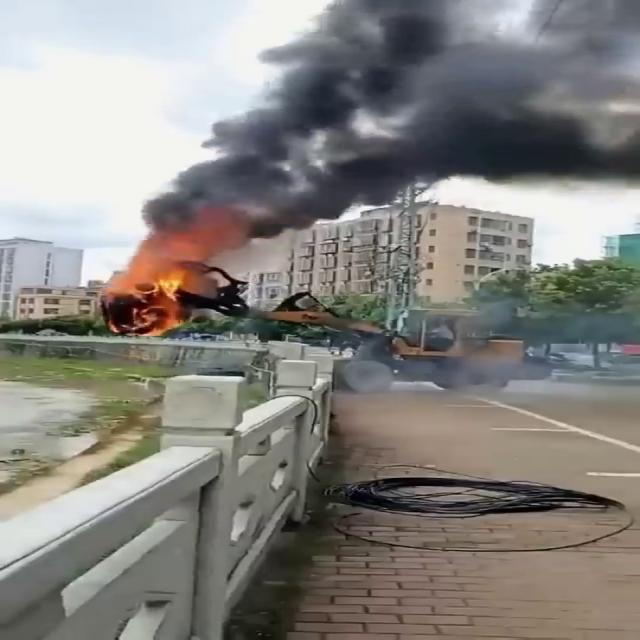Fire: (112, 260, 204, 326)
Smoke: (195, 0, 640, 234)
